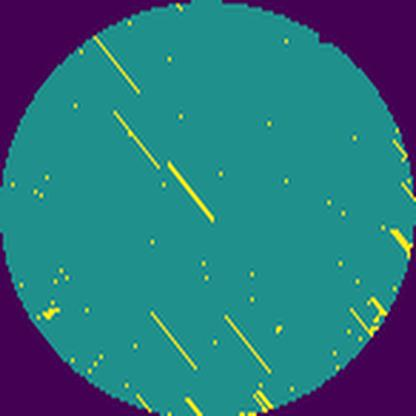Scratch: (147, 305, 201, 377), (221, 313, 276, 379), (163, 161, 219, 225), (95, 35, 147, 99), (111, 104, 161, 168)
